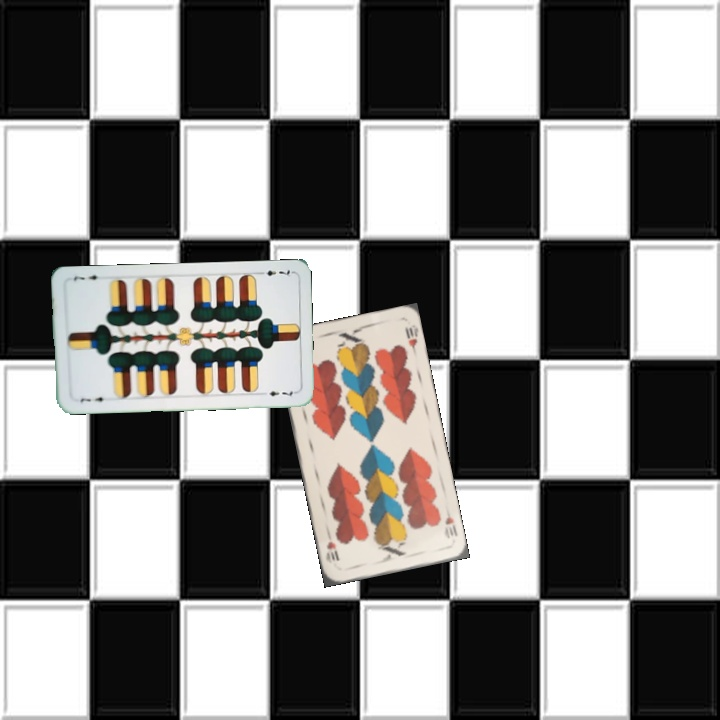E7: (254, 266, 295, 280), (76, 393, 110, 405)
H10: (440, 504, 460, 541)
